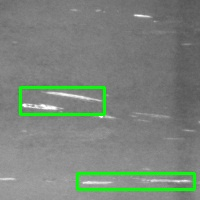scratches: (20, 87, 104, 114), (77, 173, 194, 189)
